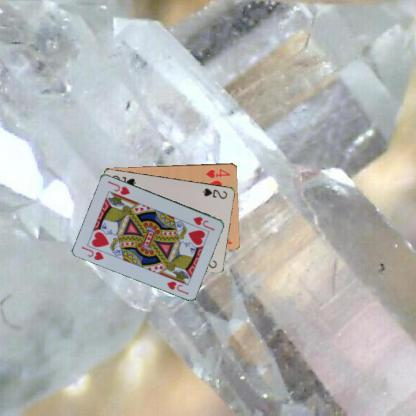2s: (200, 185, 229, 200)
4h: (204, 167, 233, 179)
Jh: (79, 242, 109, 261), (191, 214, 216, 232)
